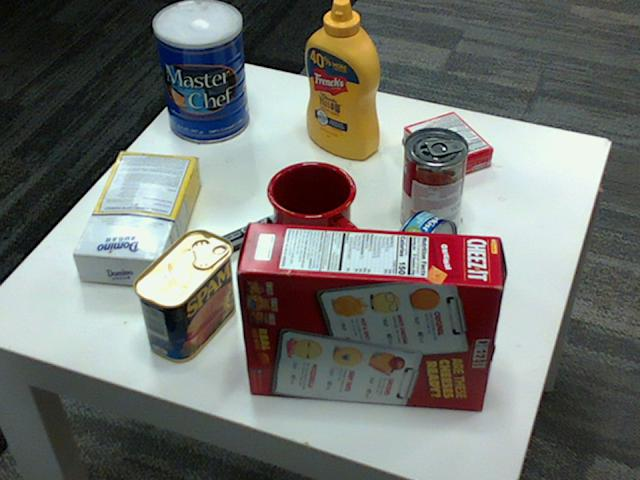cracker_box: (235, 222, 501, 407)
gelatin_box: (404, 111, 494, 180)
large_marker: (199, 205, 300, 264)
master_chef_can: (151, 0, 247, 142)
mug: (266, 158, 361, 267)
mustard_bottle: (305, 0, 379, 159)
potted_meat_can: (134, 229, 234, 362)
sugar_box: (73, 149, 200, 283)
tomato_soup_can: (400, 127, 467, 237)
tuna_fish_can: (385, 209, 457, 298)
